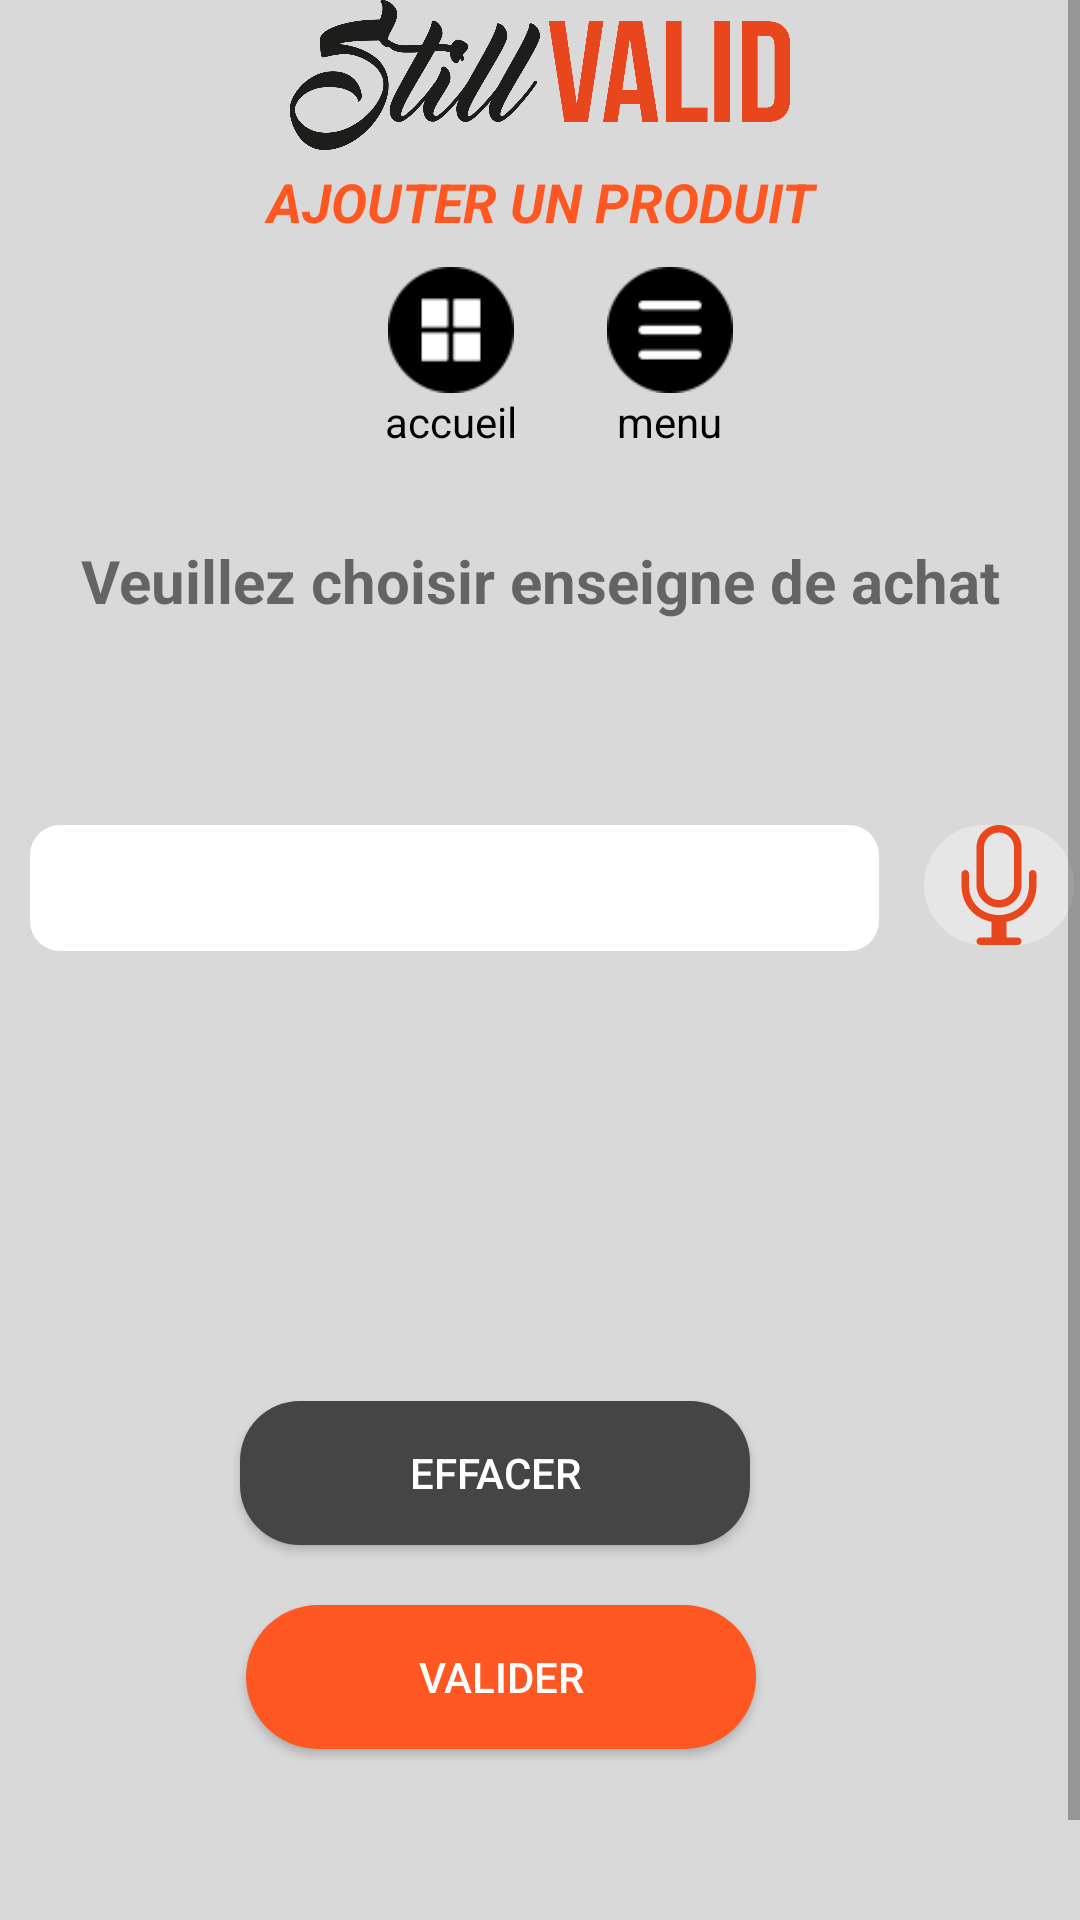

Icons on this 1080px x 1920px Android screen, each with its box as (x1,y1,x2,y2):
microphone: (924,825,1074,945)
